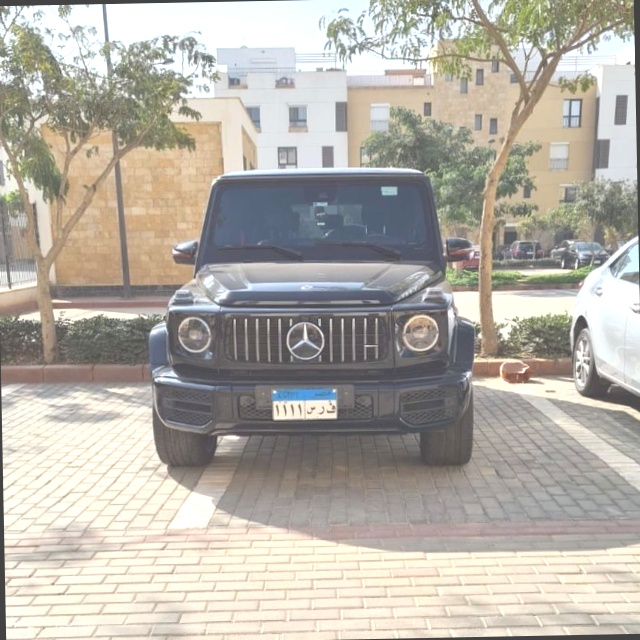License Plate: (271, 387, 337, 422)
